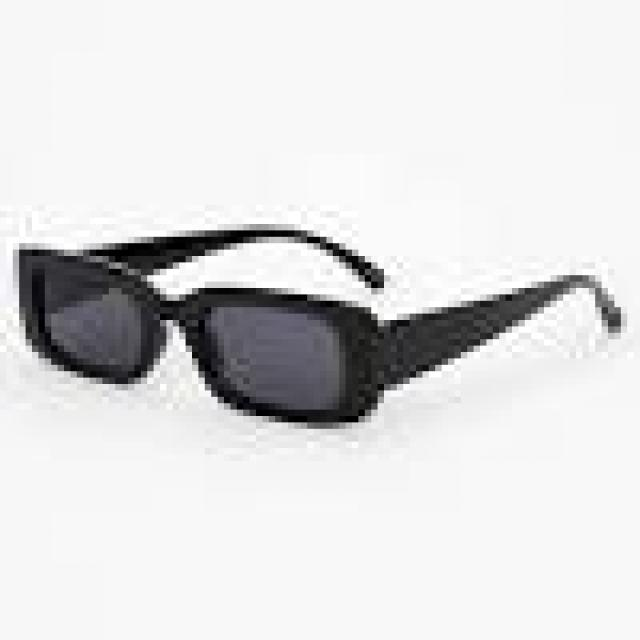suspicious-objects: (13, 211, 454, 442)
